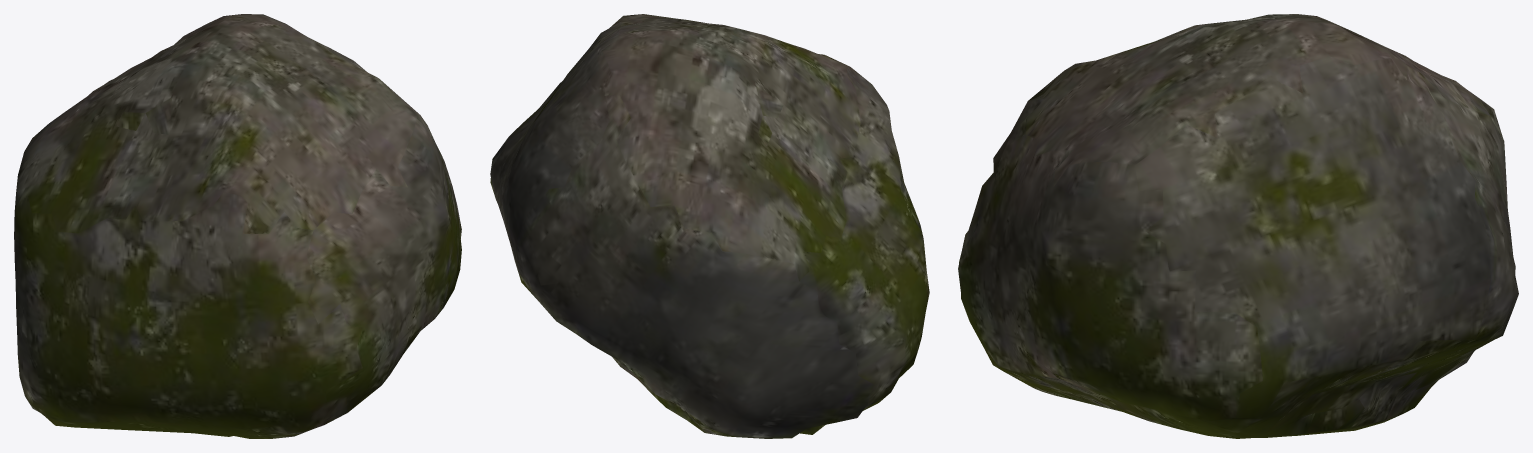
File: rock3.glb
3 views of the same model, side by side, from view 1: azimuth 30°, elevation 25°; view 2: azimuth 150°, elevation 25°; view 3: azimuth 270°, elevation 25° (orthographic). The views are drawn at different scales.
Parts seen in each view (by area): view 1: A_Set.004; view 2: A_Set.004; view 3: A_Set.004.
Part boxes in pixels (x1,y1,x2,y2): A_Set.004: [14, 14, 461, 438]; A_Set.004: [490, 14, 929, 438]; A_Set.004: [958, 14, 1518, 438].
Bounding box in the file's own units: 5.74 × 4.71 × 5.45.
Materials: 1 (1 with a texture image).
